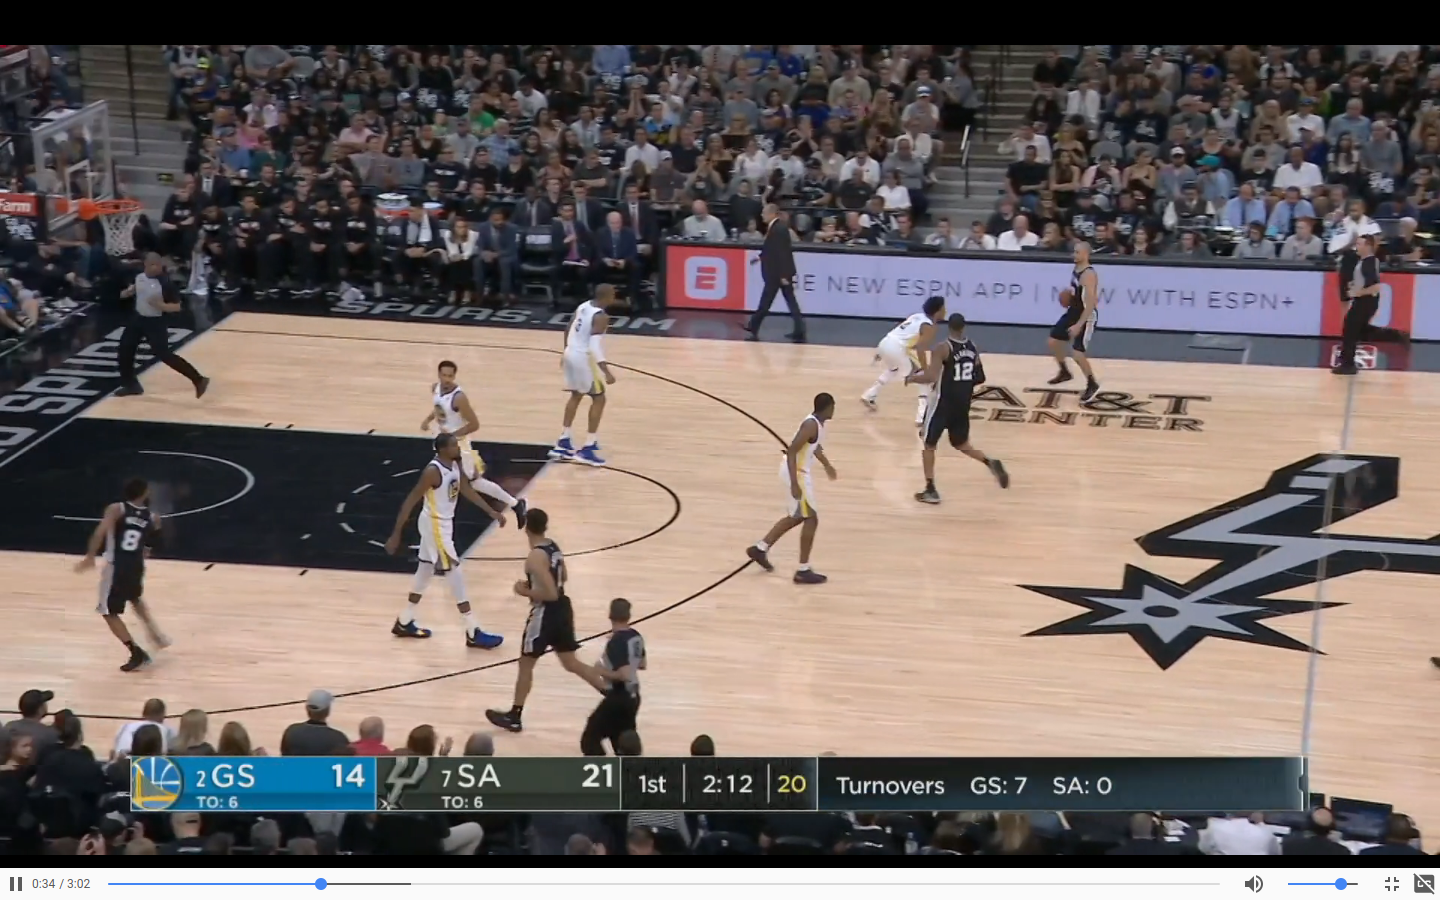basketball: (1053, 282, 1075, 308)
basketball player: (490, 508, 595, 734), (67, 469, 179, 679), (393, 437, 490, 665), (744, 386, 844, 596), (919, 316, 1005, 519), (555, 279, 619, 480), (861, 296, 944, 411), (1047, 237, 1107, 396), (432, 349, 484, 480)
referee: (112, 256, 212, 402), (579, 594, 647, 756), (1335, 231, 1396, 379)
